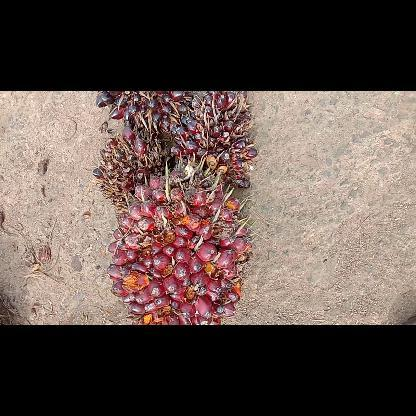TBS abnormal: (172, 91, 258, 190), (93, 126, 167, 202), (95, 91, 188, 138)
TBS masak: (108, 160, 252, 324)
